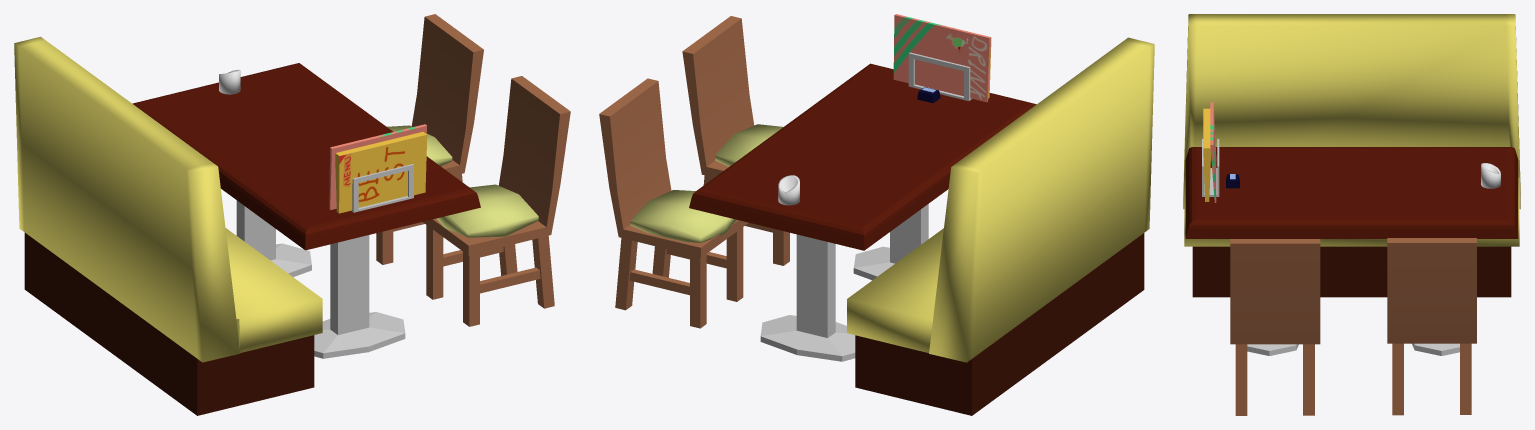
Rendered from TableSet_4P_C.fbx.
3 renders of one model, left to right at view 1: azimuth 30°, elevation 25°; view 2: azimuth 150°, elevation 25°; view 3: azimuth 270°, elevation 25°, orthographic. The views are drawn at different scales.
Visible parts, largest first — view 1: Sofa2, Table, Chair, Sofa_Leg2, Table_Leg, Menu, Cushion, MenuStand; view 2: Sofa2, Table, Chair, Sofa_Leg2, Table_Leg, Menu, Cushion, MenuStand, Receipt; view 3: Sofa2, Table, Chair, Sofa_Leg2, Menu, Table_Leg, Receipt, MenuStand.
Boxes of the visible parts, box(x1,y1,x2,y2) form: Sofa2: box(14, 36, 322, 362); Table: box(132, 63, 480, 250); Chair: box(376, 14, 570, 326); Sofa_Leg2: box(24, 233, 314, 415); Table_Leg: box(236, 200, 405, 358); Menu: box(329, 124, 427, 213); Cushion: box(387, 125, 538, 237); MenuStand: box(351, 164, 413, 212); Sofa2: box(847, 37, 1154, 362); Table: box(689, 63, 1036, 250); Chair: box(599, 16, 789, 328); Sofa_Leg2: box(855, 233, 1144, 415); Table_Leg: box(760, 204, 928, 361); Menu: box(893, 14, 991, 102); Cushion: box(630, 124, 783, 242); MenuStand: box(908, 52, 971, 100); Receipt: box(778, 175, 799, 205); Sofa2: box(1183, 14, 1520, 246); Table: box(1185, 147, 1518, 238); Chair: box(1230, 238, 1476, 415); Sofa_Leg2: box(1192, 246, 1511, 297); Menu: box(1203, 102, 1216, 202); Table_Leg: box(1247, 343, 1459, 355); Receipt: box(1481, 163, 1500, 188); MenuStand: box(1202, 139, 1219, 196).
Size of the model in its own units: 200 by 117 by 158.
